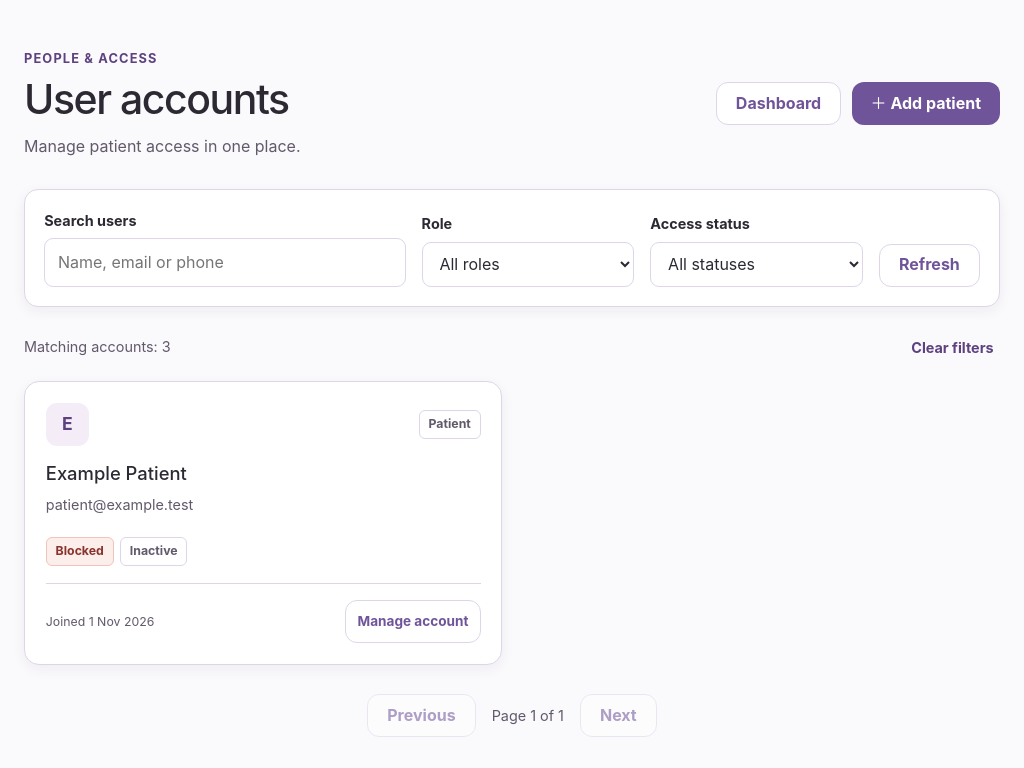
Test case: administrator user management › offers activate and unblock independently for an inactive blocked account
The image size is (1024, 768).
Click the button with aria-label "Manage account: patient@example.test".
click(413, 622)  # box [345, 600, 481, 644]
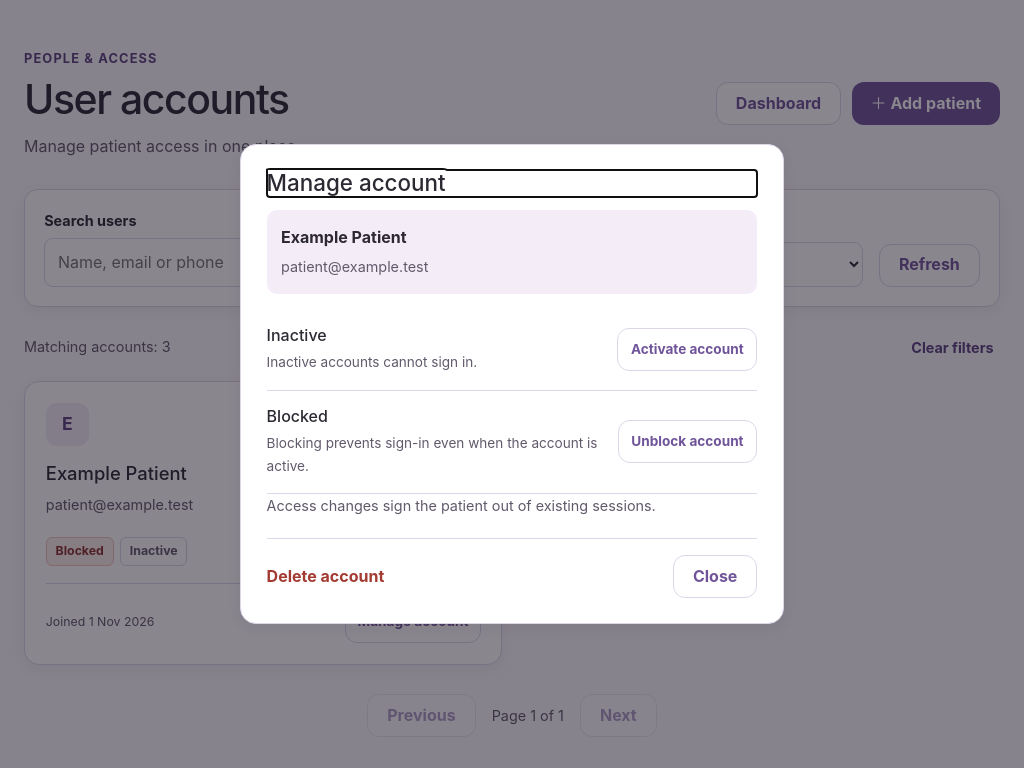
Expected: the button "Activate account" is enabled, [617, 328, 757, 371]
Expected: the button "Unblock account" is enabled, [618, 420, 757, 463]
